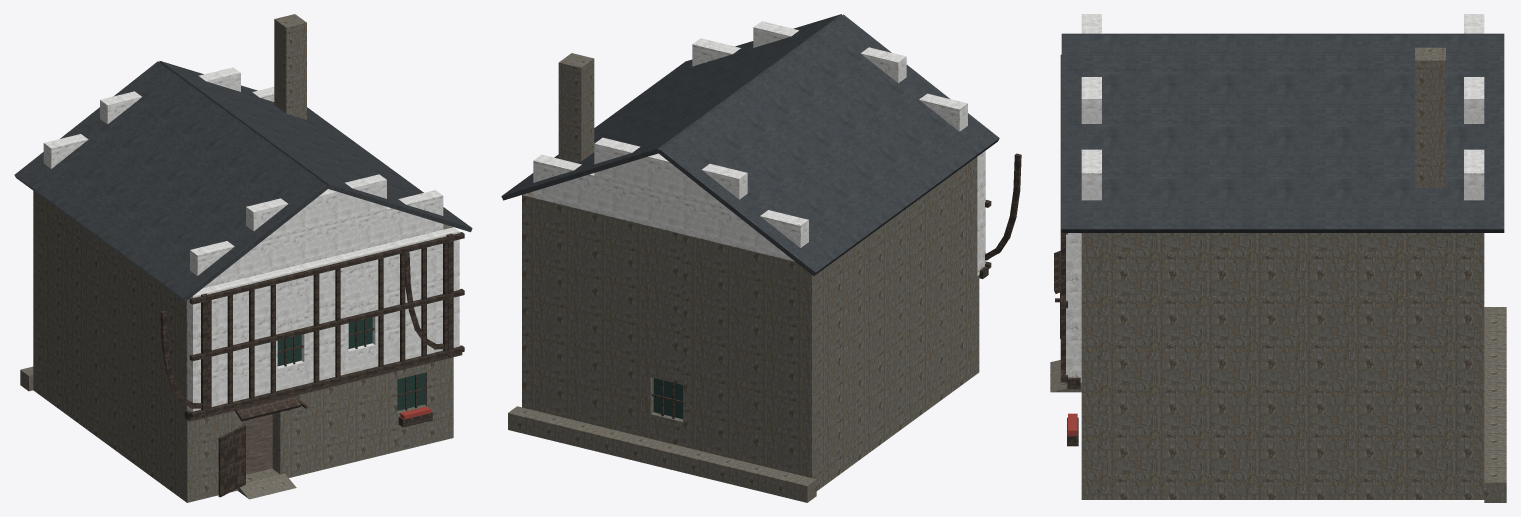
Rendered from prop_hk_house_g.glb.
The picture shows the model from 3 angles, left to right: view 1: azimuth 30°, elevation 25°; view 2: azimuth 150°, elevation 25°; view 3: azimuth 270°, elevation 25°; orthographic projection. The views are drawn at different scales.
Parts seen in each view (by area): view 1: building_hk_rowhouse_g; view 2: building_hk_rowhouse_g; view 3: building_hk_rowhouse_g.
Part boxes in pixels (x1,y1,x2,y2): building_hk_rowhouse_g: [14, 14, 472, 502]; building_hk_rowhouse_g: [501, 14, 1021, 502]; building_hk_rowhouse_g: [1050, 14, 1506, 502].
Size of the model in its own units: 10.46 by 10.54 by 10.2.
Materials: 7 (7 with a texture image).
